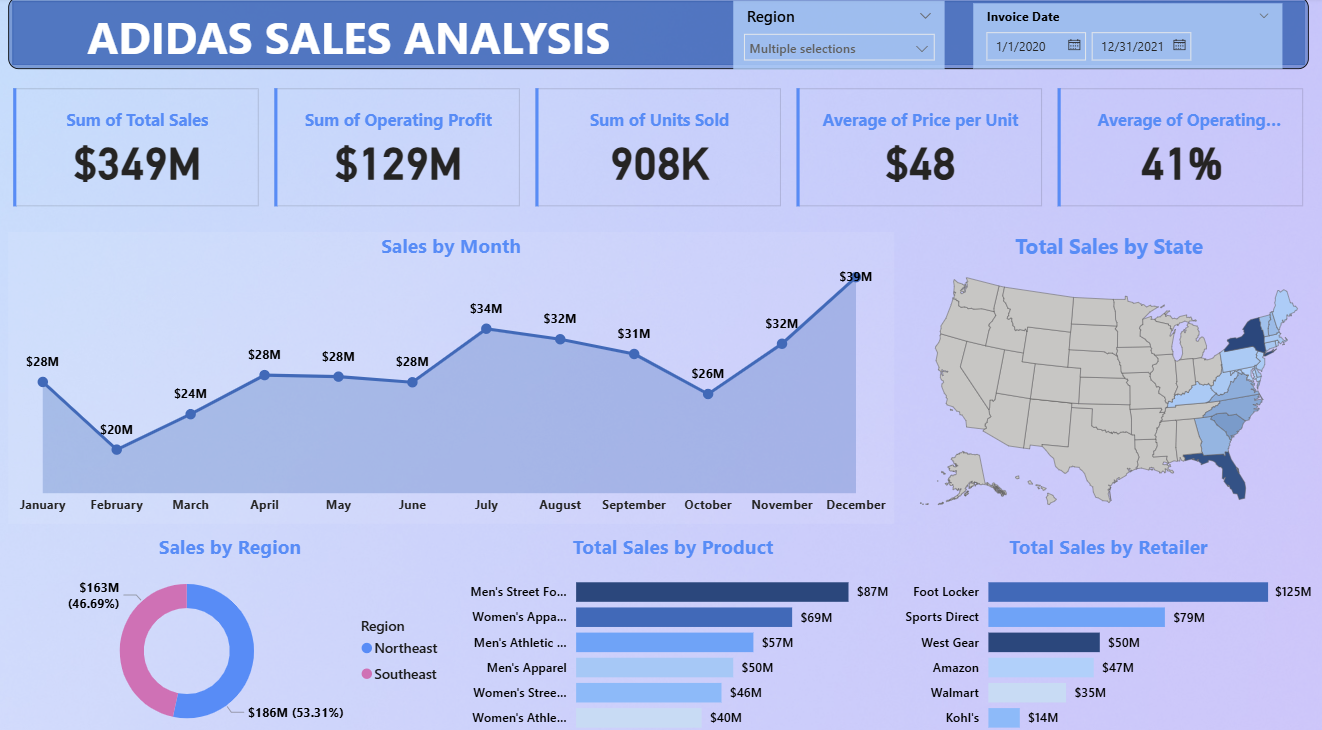

What the dashboard file says about the page in this screenshot:
{"tool":"powerbi","page":{"name":"Page 1","canvas":[1280,720],"ordinal":0},"visuals":[{"type":"shape","box":[11,0,1255.6,70],"z":0},{"type":"textbox","box":[82.3,4.1,531,79.6],"z":1000},{"type":"cardVisual","fields":{"Data":["Sum(Data Sales Adidas.Total Sales)","Sum(Data Sales Adidas.Operating Profit)","Sum(Data Sales Adidas.Units Sold)","Avg(Data Sales Adidas.Price per Unit)","Avg(Data Sales Adidas.Operating Margin)"]},"box":[11,83.7,1255.6,124.9],"z":2000},{"type":"areaChart","title":"Sales by Month","fields":{"Category":["Data Sales Adidas.Invoice Date.Variation.Date Hierarchy.Month"],"Y":["Sum(Data Sales Adidas.Total Sales)"]},"box":[11,226.4,854.9,281.3],"z":3000},{"type":"shapeMap","title":"Total Sales by State","fields":{"Category":["Data Sales Adidas.State"],"Value":["Sum(Data Sales Adidas.Total Sales)"]},"box":[865.9,226.4,414.4,281.3],"z":4000},{"type":"donutChart","title":"Sales by Region","fields":{"Category":["Data Sales Adidas.Region"],"Y":["Sum(Data Sales Adidas.Total Sales)"]},"box":[11,517.3,428.1,203.1],"z":5000},{"type":"barChart","title":"Total Sales by Product","fields":{"Category":["Data Sales Adidas.Product"],"Y":["Sum(Data Sales Adidas.Total Sales)"]},"box":[439.1,517.3,426.8,203.1],"z":6000},{"type":"barChart","title":"Total Sales by Retailer","fields":{"Y":["Sum(Data Sales Adidas.Total Sales)"],"Category":["Data Sales Adidas.Retailer"]},"box":[871.4,517.3,403.4,203.1],"z":7000},{"type":"slicer","fields":{"Values":["Data Sales Adidas.Region"]},"box":[710.5,3.7,204.2,66],"z":8000},{"type":"slicer","fields":{"Values":["Data Sales Adidas.Invoice Date"]},"box":[942.8,6.1,298.4,63.6],"z":9000}]}

Visuals, with their boxes in screenshot pixels (x1, y1, x2, y2), scaled from the page's 1280x720 canvas onto the 1322x730 screenshot:
shape: (x1=11, y1=0, x2=1308, y2=71)
textbox: (x1=85, y1=4, x2=633, y2=85)
cardVisual - Sum(Data Sales Adidas.Total Sales) x Sum(Data Sales Adidas.Operating Profit): (x1=11, y1=85, x2=1308, y2=211)
"Sales by Month" areaChart: (x1=11, y1=230, x2=894, y2=515)
"Total Sales by State" shapeMap: (x1=894, y1=230, x2=1321, y2=515)
"Sales by Region" donutChart: (x1=11, y1=524, x2=454, y2=729)
"Total Sales by Product" barChart: (x1=454, y1=524, x2=894, y2=729)
"Total Sales by Retailer" barChart: (x1=900, y1=524, x2=1317, y2=729)
slicer - Data Sales Adidas.Region: (x1=734, y1=4, x2=945, y2=71)
slicer - Data Sales Adidas.Invoice Date: (x1=974, y1=6, x2=1282, y2=71)
